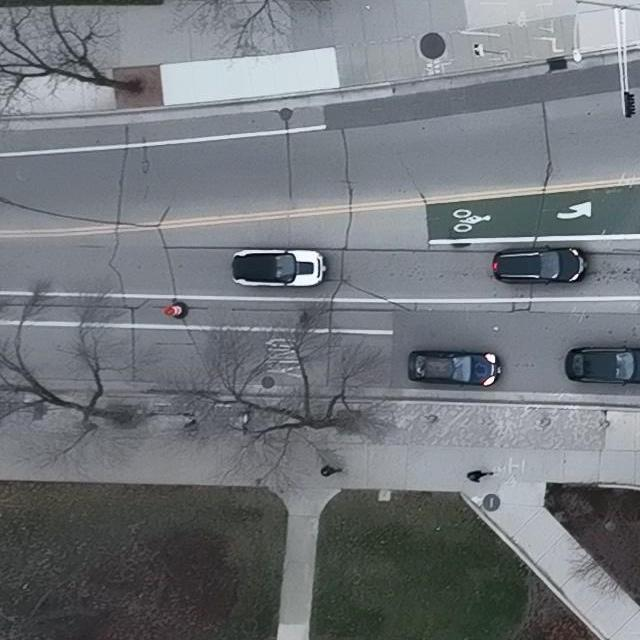car: (492, 244, 587, 285), (231, 249, 327, 289), (407, 349, 502, 387), (564, 345, 640, 386)
